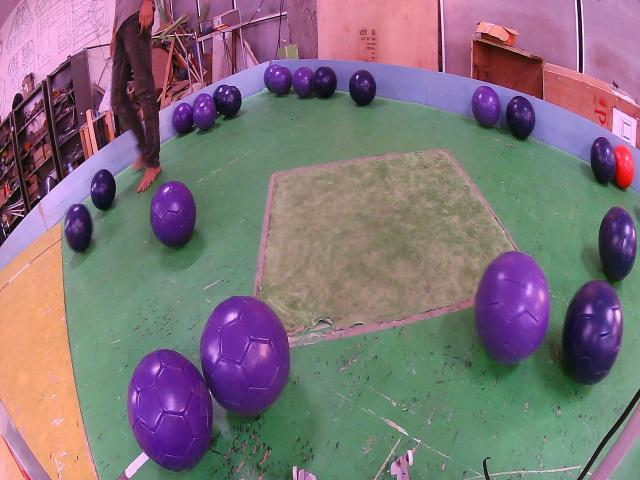jambhalya: (200, 296, 290, 416), (128, 350, 212, 471), (475, 252, 550, 364), (151, 181, 197, 246), (472, 85, 501, 128), (193, 100, 216, 130), (270, 66, 292, 96), (293, 67, 314, 98), (173, 104, 194, 133), (264, 65, 278, 91), (194, 93, 212, 106)
kaalyya: (563, 280, 622, 385), (599, 206, 636, 279), (65, 205, 93, 251), (506, 97, 535, 139), (590, 137, 616, 183), (90, 168, 116, 210), (349, 70, 376, 105), (312, 67, 338, 98), (220, 86, 241, 116), (212, 85, 228, 109)
